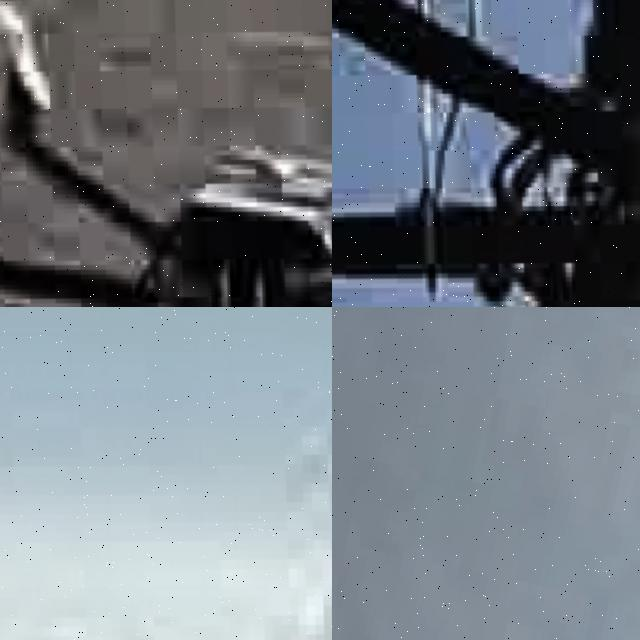drone: (0, 307, 332, 640), (0, 0, 332, 307), (332, 0, 640, 307)
